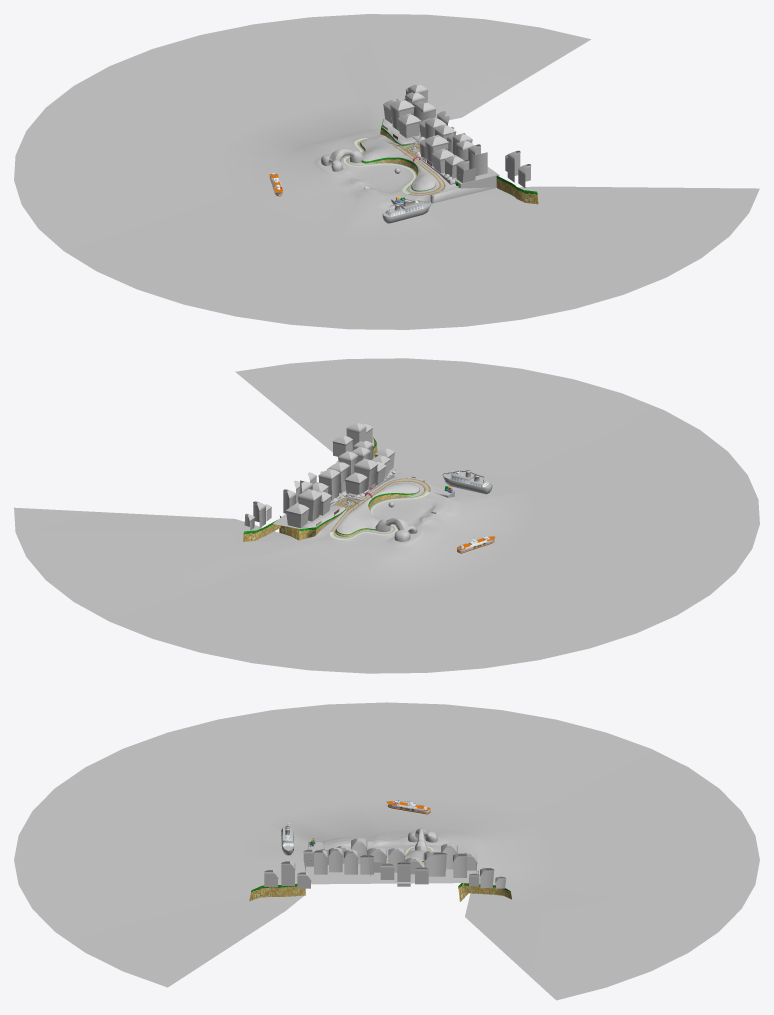
Rendered from PeachBeachNoSkybox.obj.
3 views of the same model, one above another, from view 1: azimuth 30°, elevation 25°; view 2: azimuth 150°, elevation 25°; view 3: azimuth 270°, elevation 25° (orthographic).
Parts seen in each view (by area): view 1: PeachBeachNoSkybox; view 2: PeachBeachNoSkybox; view 3: PeachBeachNoSkybox.
Boxes of the visible parts, x1=… form: PeachBeachNoSkybox: x1=14, y1=14, x2=759, y2=329; PeachBeachNoSkybox: x1=14, y1=358, x2=759, y2=673; PeachBeachNoSkybox: x1=14, y1=702, x2=759, y2=1000.
Size of the model in its own units: 7352 by 521 by 7776.
